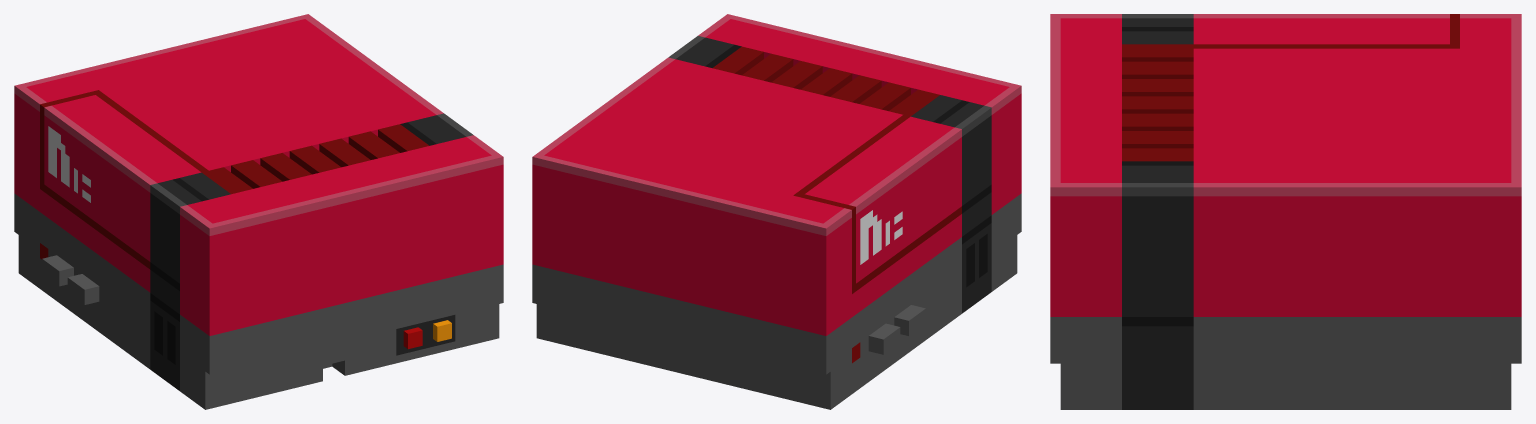
The model's file is NesBox.obj.
The picture shows the model from 3 angles, left to right: view 1: azimuth 30°, elevation 25°; view 2: azimuth 150°, elevation 25°; view 3: azimuth 270°, elevation 25°; orthographic projection. The views are drawn at different scales.
Size of the model in its own units: 42 by 24 by 46.
Materials: 1 (1 with a texture image).
